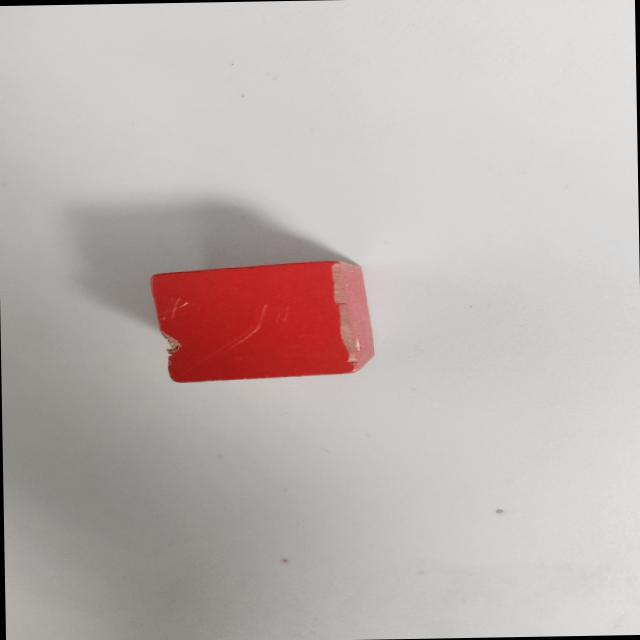broken: (147, 260, 376, 382)
